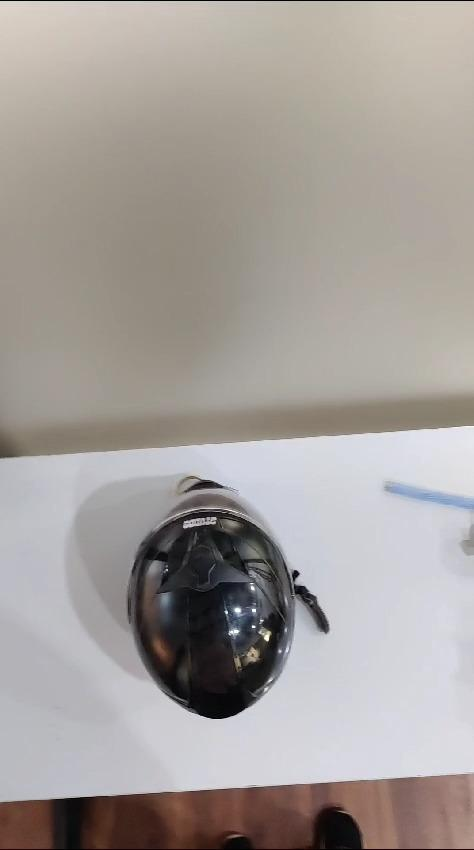Helmet: (128, 476, 328, 717)
